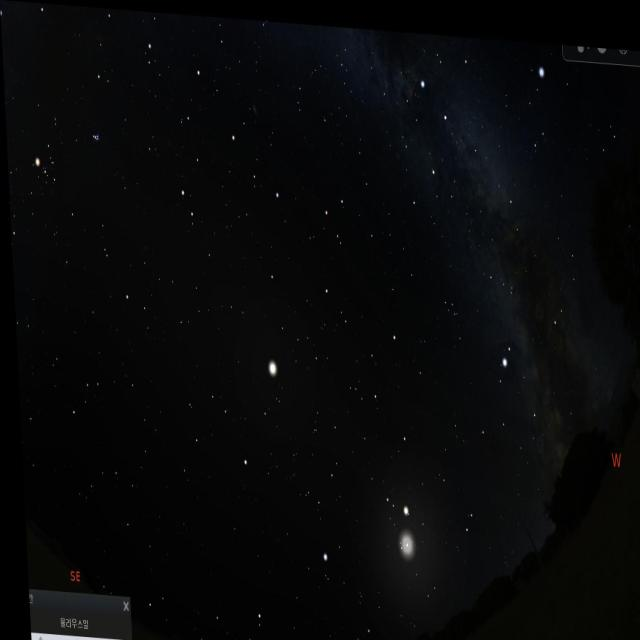aquila: (466, 334, 570, 492)
cygnus: (414, 44, 516, 204)
lyra: (512, 40, 558, 154)
moon: (382, 503, 417, 568)
pleiades: (82, 116, 101, 156)
taurus: (22, 98, 105, 240)
